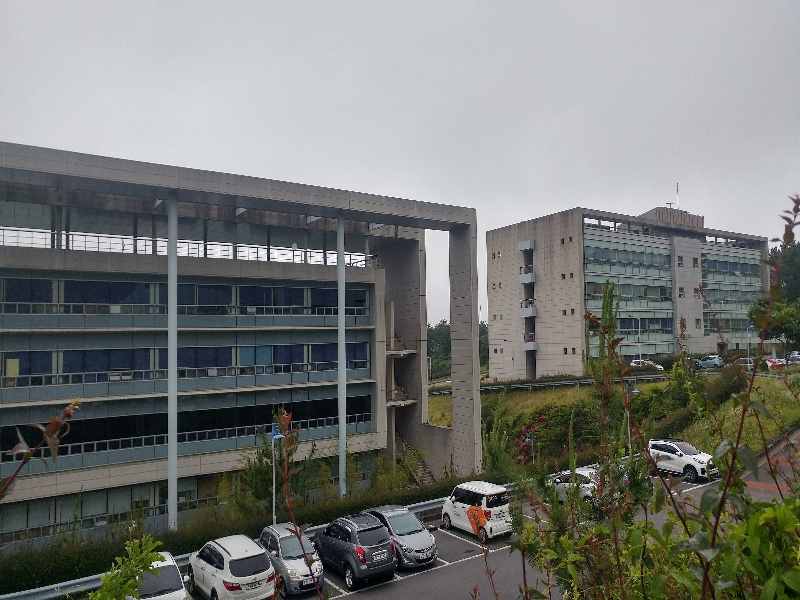College of Marine Science: (484, 199, 776, 369), (507, 214, 757, 347)
Engineering College Building 4: (5, 157, 475, 479), (1, 149, 376, 511)
